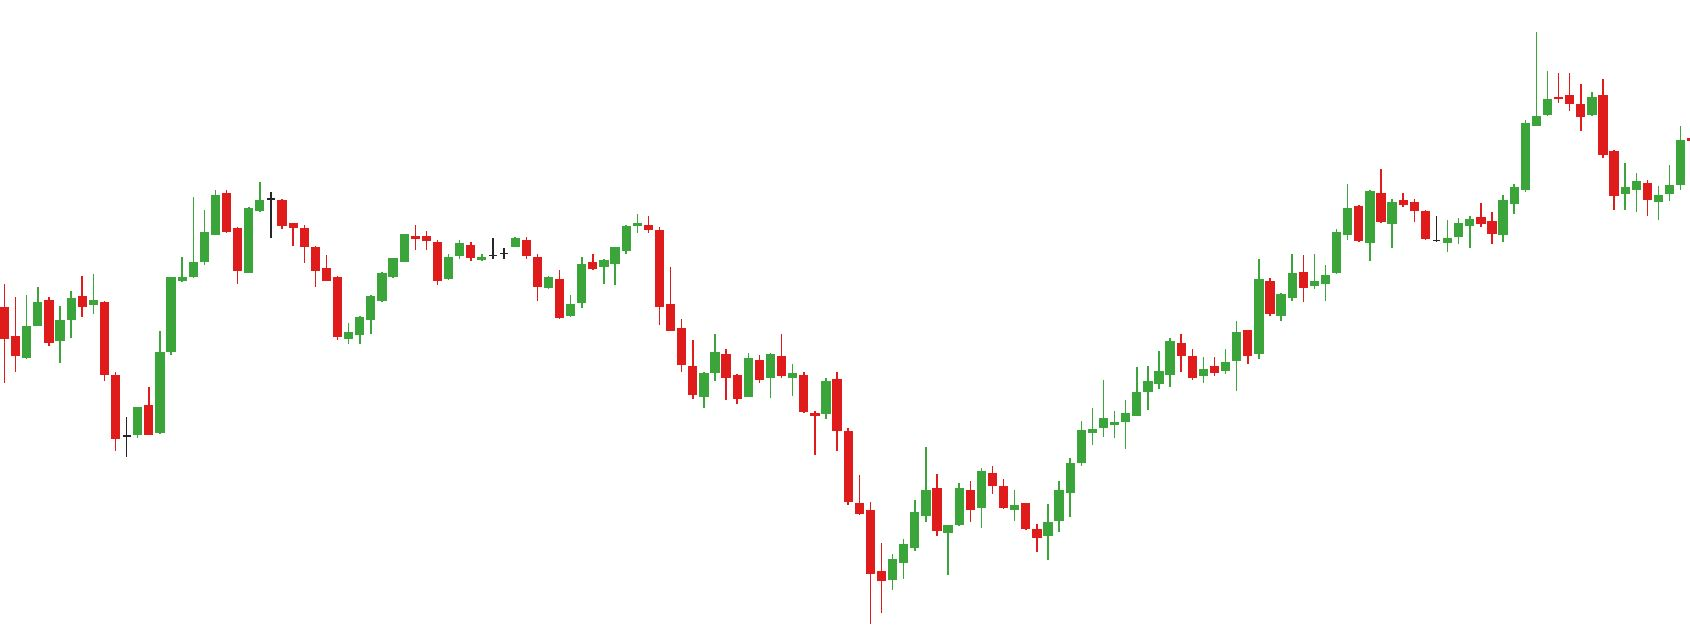sell: (508, 213, 669, 279)
